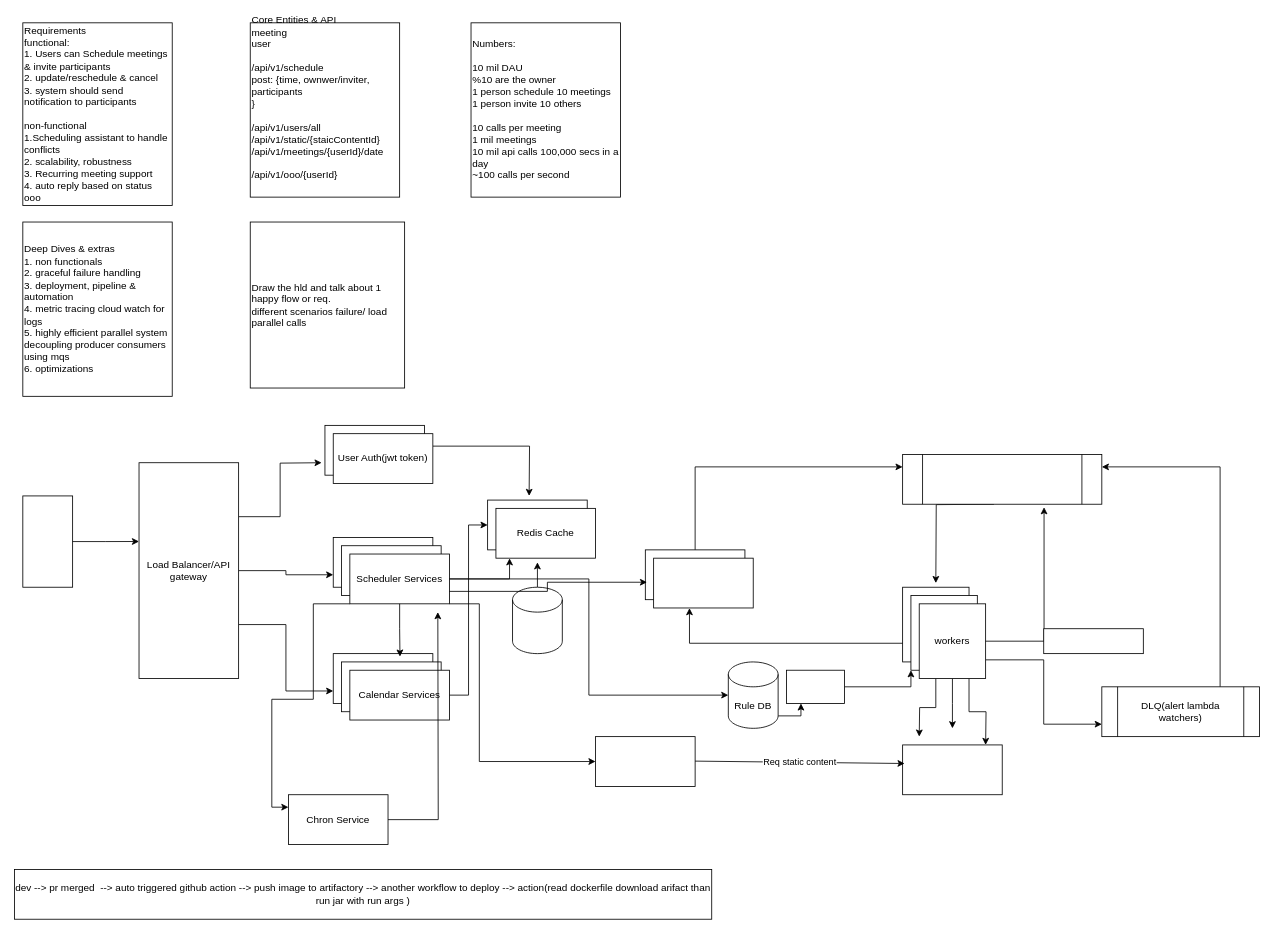
Image size: 1274x934. Some labels were removed from this diagram. The centre of each missing label's shape, as x and y in pixels:
"backoff retry" goes at [1093,641].
"CDN" goes at [645,761].
"Client" goes at [47,541].
"metadata DB" goes at [537,620].
"notification queue" goes at [1002,479].
"Notification service" goes at [703,582].
"Rule Cache" goes at [815,686].
"Users" goes at [952,769].
